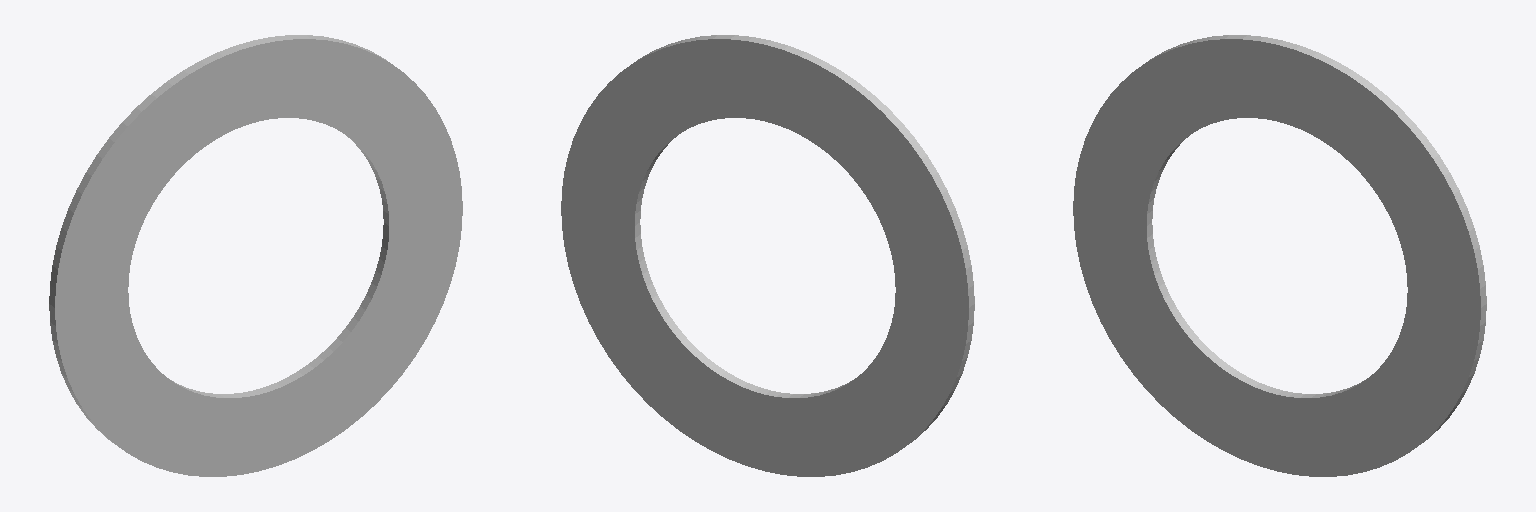
Rendered from InnerPixels_PositiveEndcap_passives_l51.obj.
3 renders of one model, left to right at view 1: azimuth 30°, elevation 25°; view 2: azimuth 150°, elevation 25°; view 3: azimuth 330°, elevation 25°, orthographic.
Bounding box in the file's own units: 246 × 246 × 6.05.